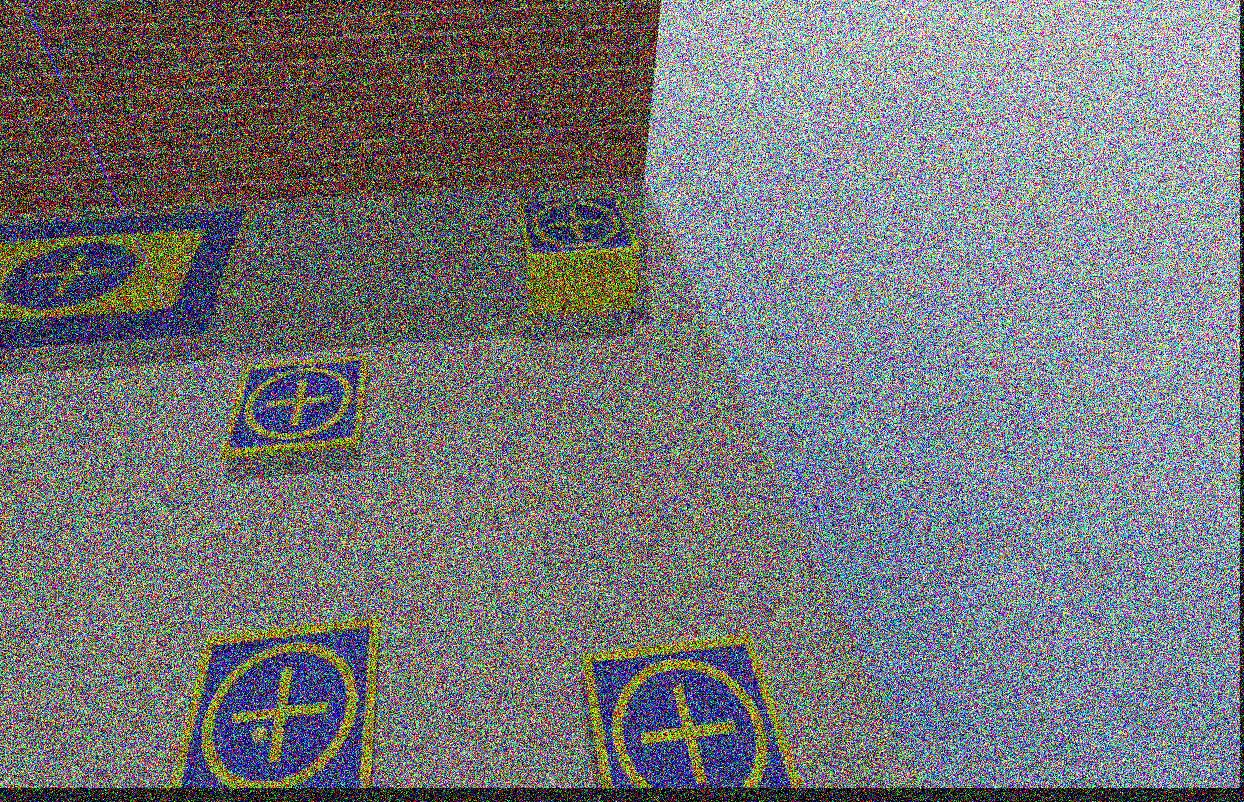large_base: (0, 211, 248, 349)
small_base: (170, 623, 382, 789), (582, 632, 799, 788), (219, 353, 371, 460), (518, 192, 645, 261)
